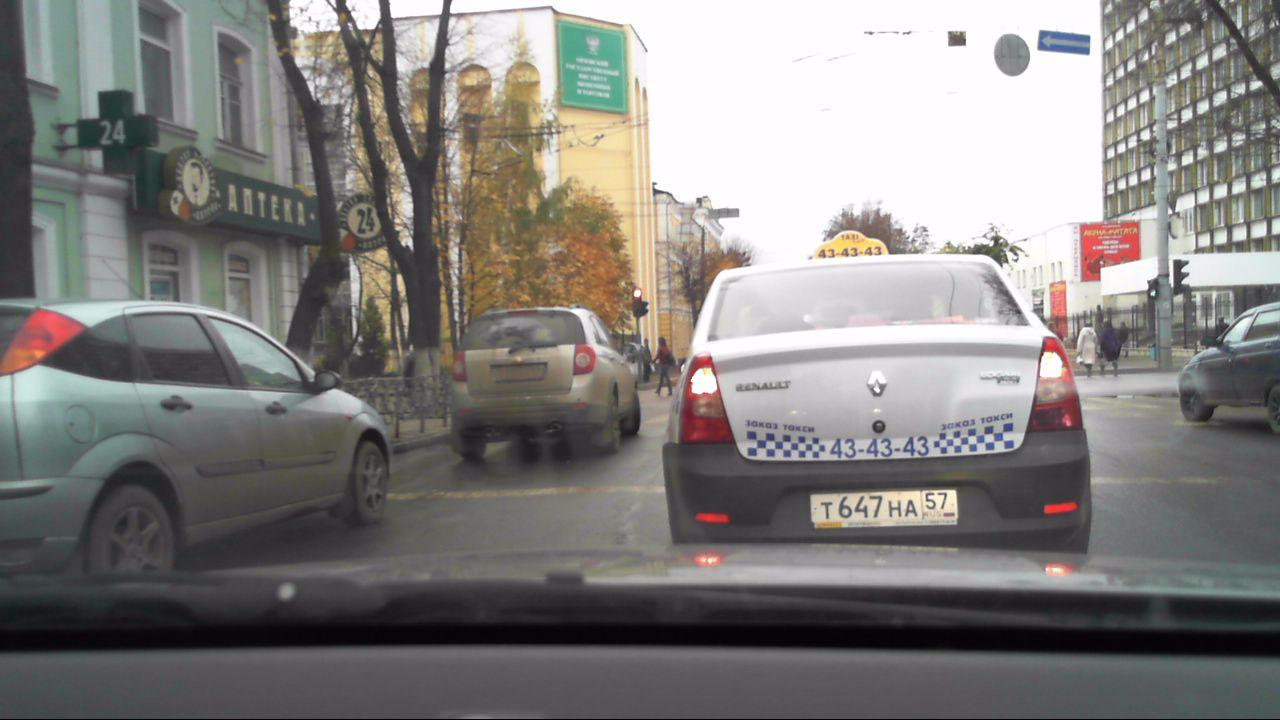5_7_2: (1039, 29, 1093, 57)
